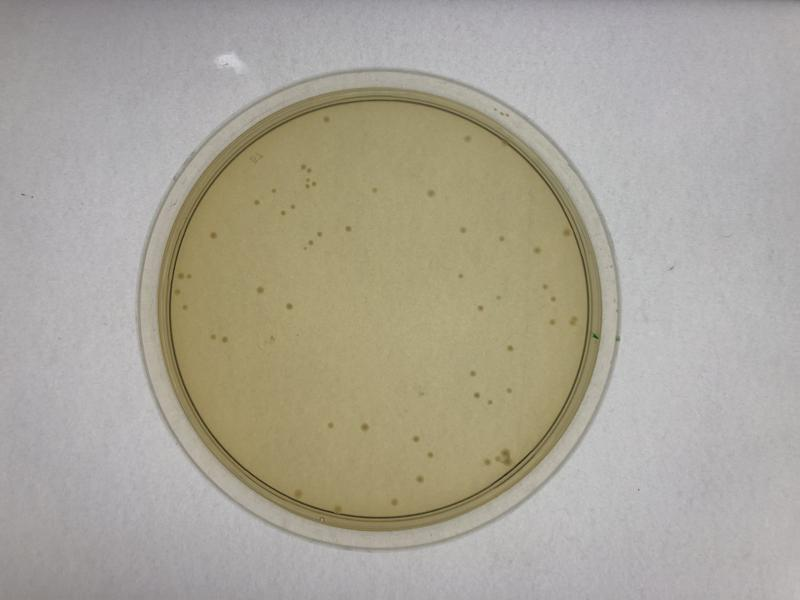colony: (351, 415, 376, 435), (405, 429, 423, 449), (336, 219, 357, 236), (420, 447, 440, 464), (367, 180, 386, 197), (205, 224, 222, 243), (323, 415, 339, 435), (421, 184, 439, 201), (412, 471, 429, 488), (469, 385, 483, 405), (253, 281, 269, 298), (502, 338, 517, 356), (492, 227, 507, 245), (217, 331, 232, 349), (464, 363, 480, 379), (282, 297, 297, 313), (454, 221, 471, 235), (503, 379, 516, 397), (275, 206, 289, 221), (489, 290, 505, 303), (249, 194, 262, 210), (485, 393, 496, 411), (472, 299, 486, 313), (266, 183, 280, 197), (313, 226, 327, 239), (453, 268, 465, 282), (531, 243, 543, 257), (545, 294, 559, 306), (539, 279, 551, 291), (544, 316, 557, 327)
